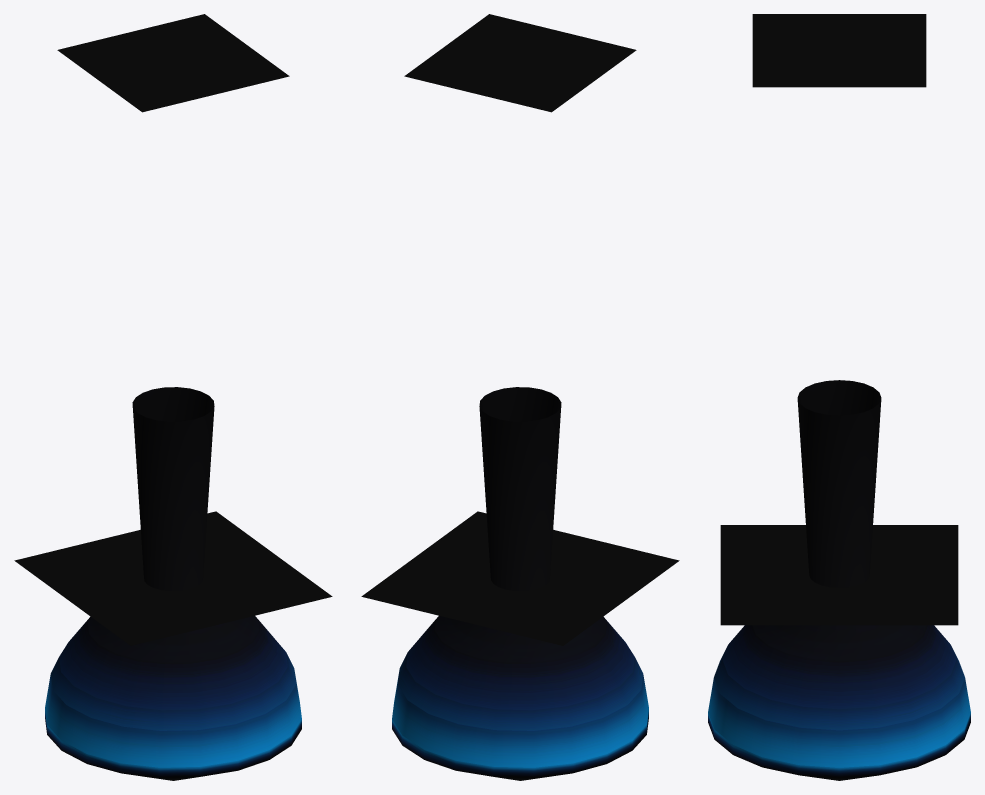
The model's file is evolution_bg.fbx.
3 views of the same model, side by side, from view 1: azimuth 30°, elevation 25°; view 2: azimuth 150°, elevation 25°; view 3: azimuth 270°, elevation 25° (orthographic).
Visible parts, largest first — view 1: evo_back_ground4, tube_outside_b, evo_plane; view 2: evo_back_ground4, tube_outside_b, evo_plane; view 3: evo_back_ground4, tube_outside_b, evo_plane.
Boxes of the visible parts, bbox=[...] form: evo_back_ground4: bbox=[45, 387, 301, 780]; tube_outside_b: bbox=[14, 511, 332, 645]; evo_plane: bbox=[57, 14, 289, 112]; evo_back_ground4: bbox=[392, 387, 648, 780]; tube_outside_b: bbox=[361, 511, 679, 645]; evo_plane: bbox=[404, 14, 636, 112]; evo_back_ground4: bbox=[708, 380, 970, 780]; tube_outside_b: bbox=[720, 525, 958, 625]; evo_plane: bbox=[752, 14, 926, 87].
Bounding box in the file's own units: 9.31 × 28.53 × 9.31.
